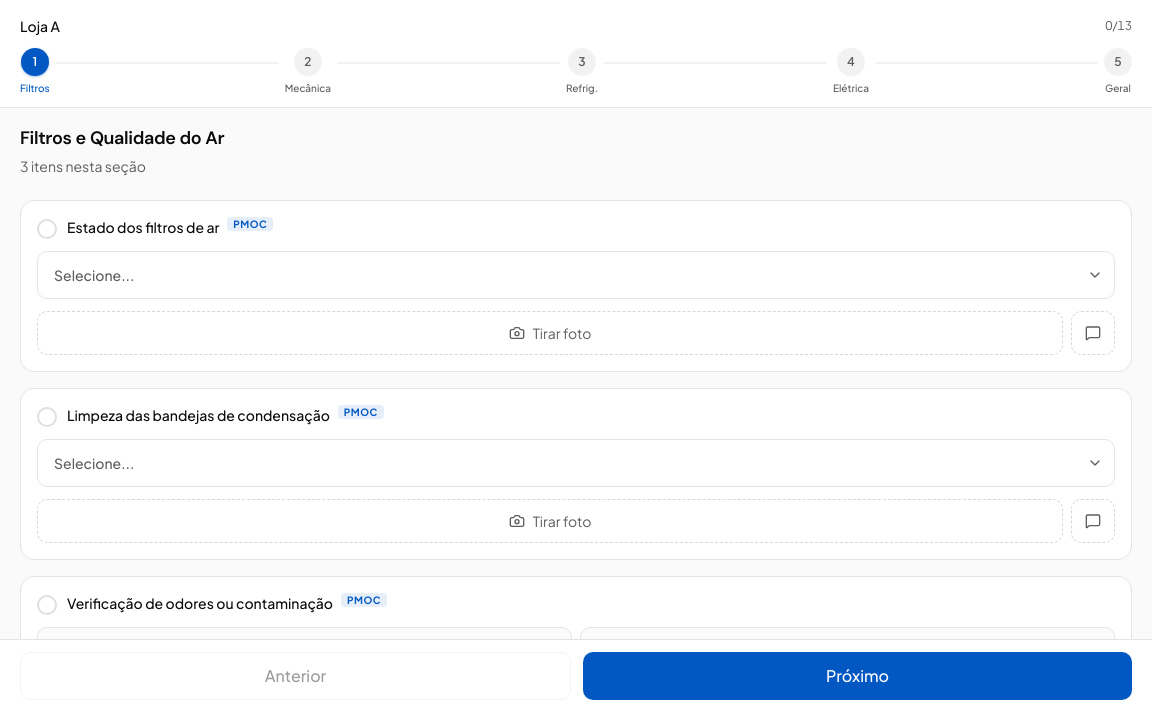
Test case: ChecklistForm › navigates to section when clicking stepper pill
The image size is (1152, 720).
Click the button with aria-label "Sistema de Refrigeração" at (582, 71), box [566,48,598,94]
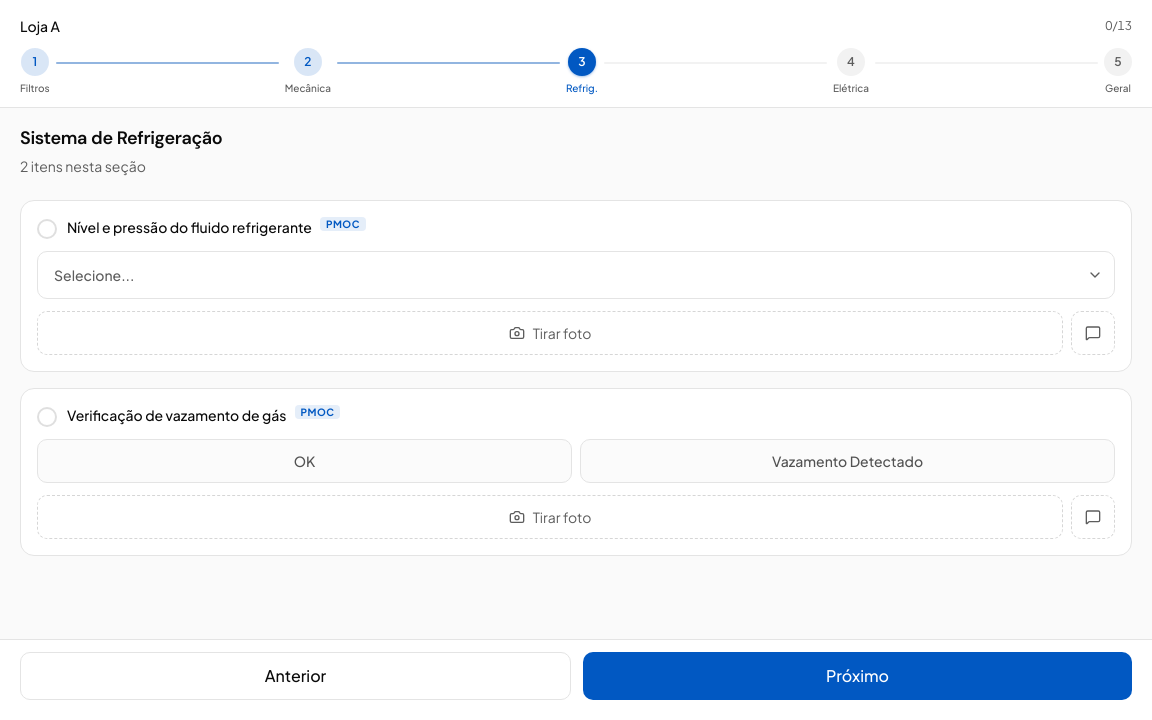
Now the heading "Sistema de Refrigeração" is shown, box [20,126,222,150]
